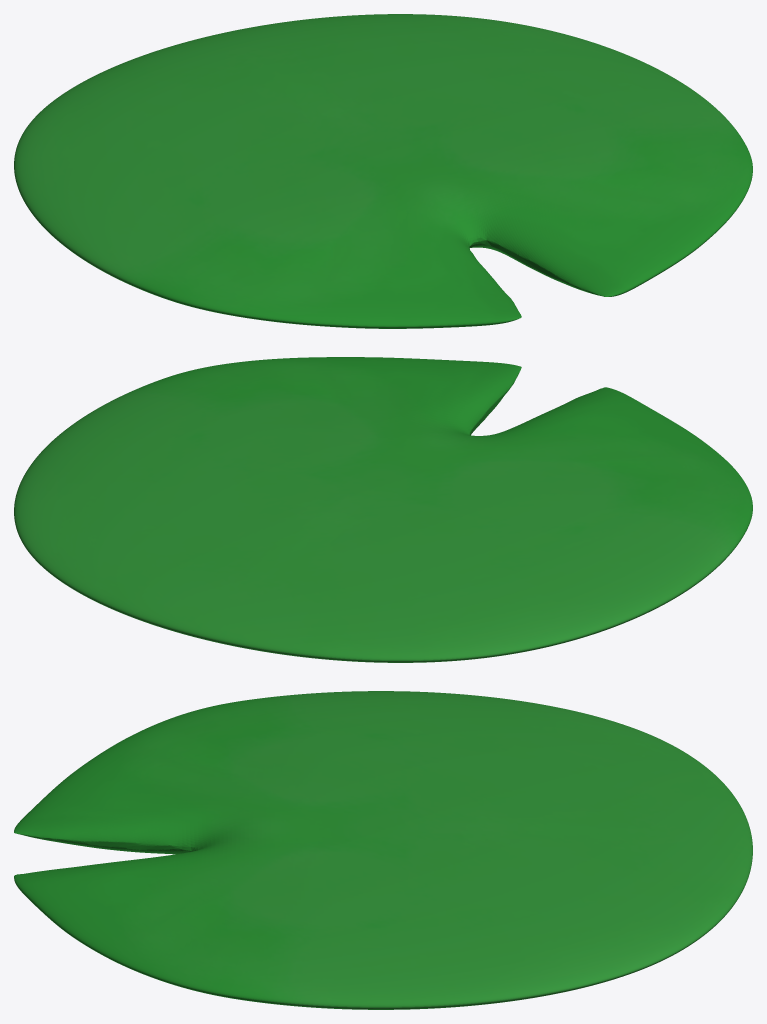
Rendered from lilypad.glb.
The picture shows the model from 3 angles, top to bottom: view 1: azimuth 30°, elevation 25°; view 2: azimuth 150°, elevation 25°; view 3: azimuth 270°, elevation 25°; orthographic projection. The views are drawn at different scales.
Parts seen in each view (by area): view 1: Quad Sphere split; view 2: Quad Sphere split; view 3: Quad Sphere split.
Part boxes in pixels (x1,y1,x2,y2): Quad Sphere split: (14, 14, 752, 328); Quad Sphere split: (14, 357, 752, 662); Quad Sphere split: (14, 691, 752, 1009).
Size of the model in its own units: 0.8795 by 0.063 by 0.8736.
